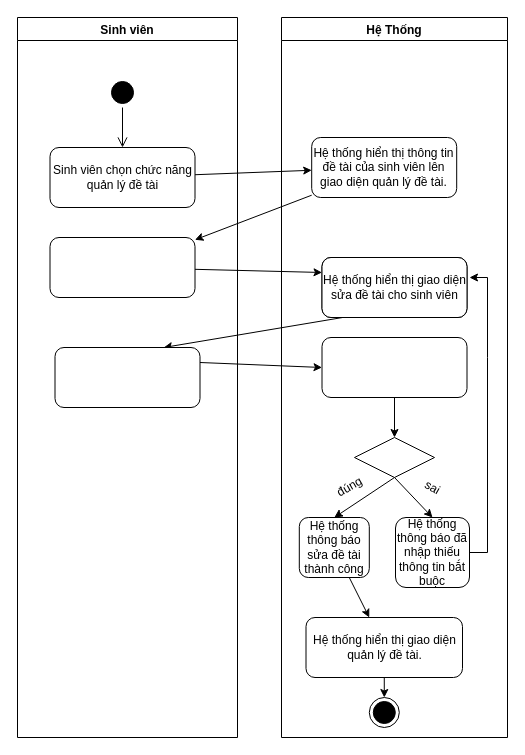
The diagram is 525 pixels wide and 755 high, and some of its shapes have lost their labels. Here are the shapes that lost their labels. From the top down, the centre of each, then its label:
At point 122,267: "Sinh viên chọn chức năng sửa đề tài".
At point 127,377: "Sinh viên điền đầy đủ thông tin cần sửa của đề tài và ấn Sửa".
At point 394,367: "Hệ thống kiểm tra thông tin đã nhập của sinh viên".
At point 394,457: "kiểm tra".
